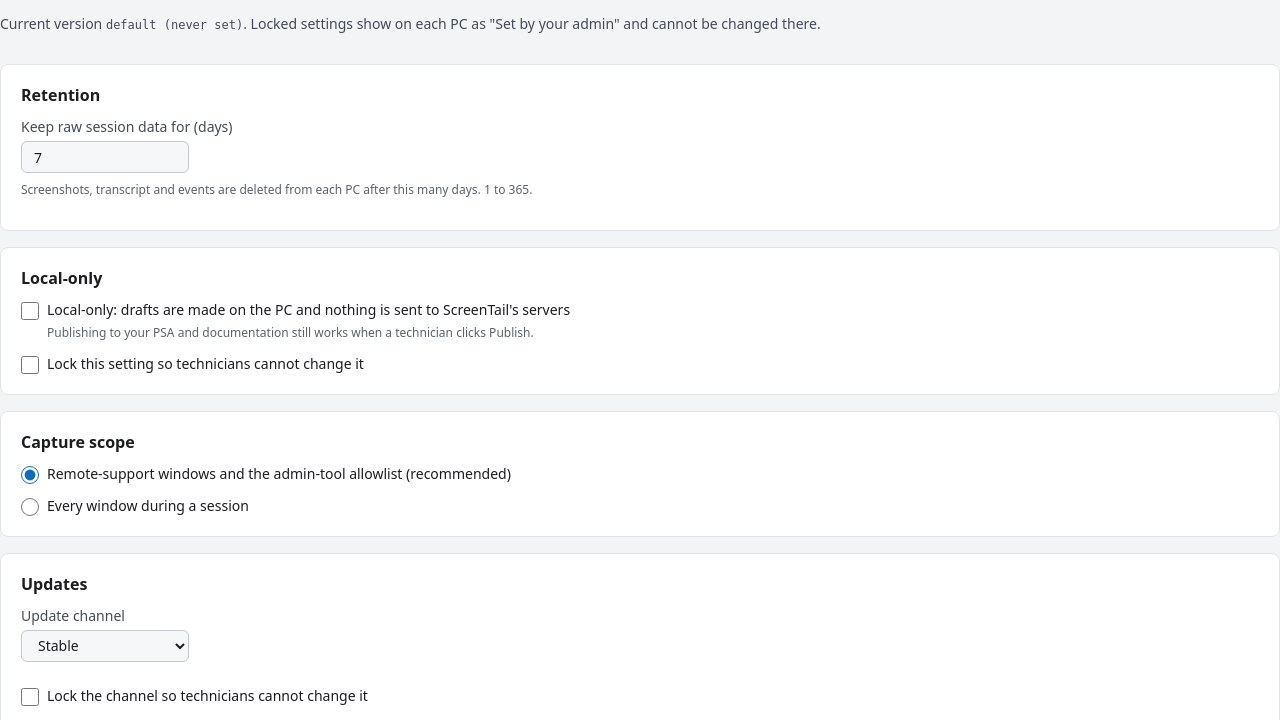
it: PolicyPage › saves every field of the policy, the locked ones included
The width and height of the screenshot is (1280, 720).
Replace the text in the number field labelled "Keep raw session data for (days)" with "3" at (105, 157), box [21, 141, 189, 173]
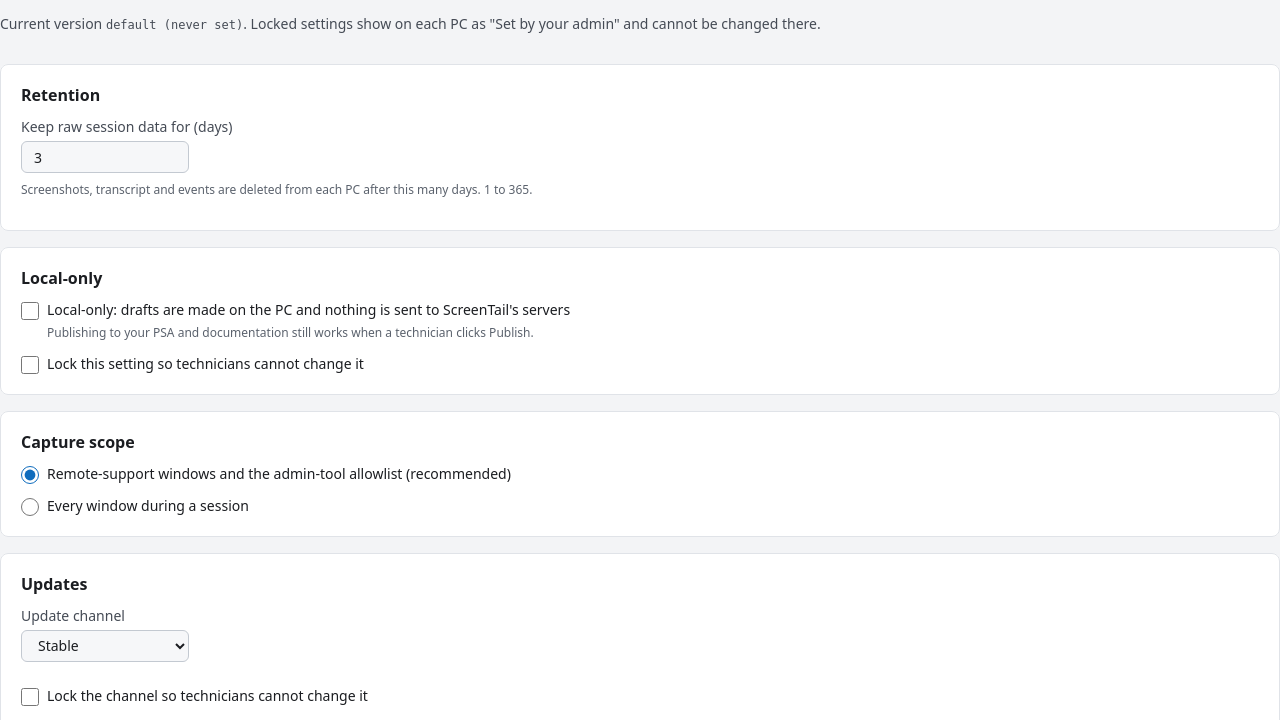
Click the checkbox labelled "Local-only:" at (30, 311), box [21, 302, 39, 320]
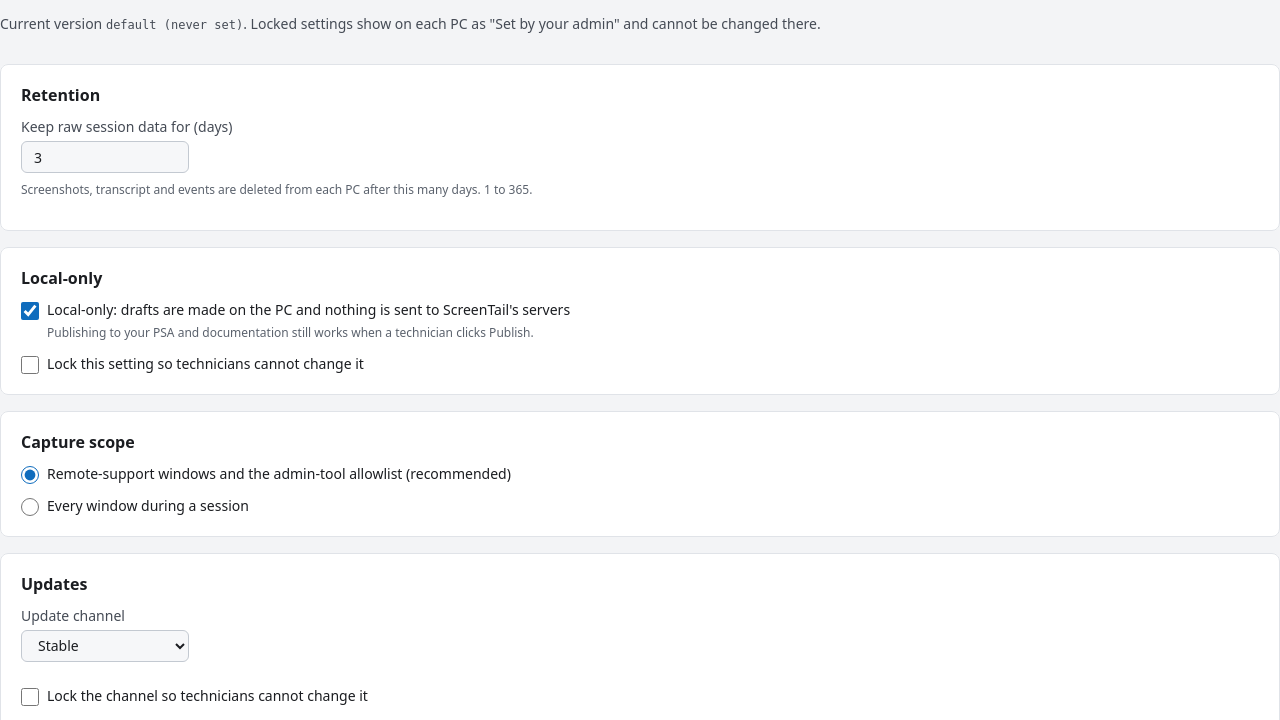
Click the checkbox labelled "Lock this setting so technicians cannot change it" at (30, 364), box [21, 356, 39, 374]
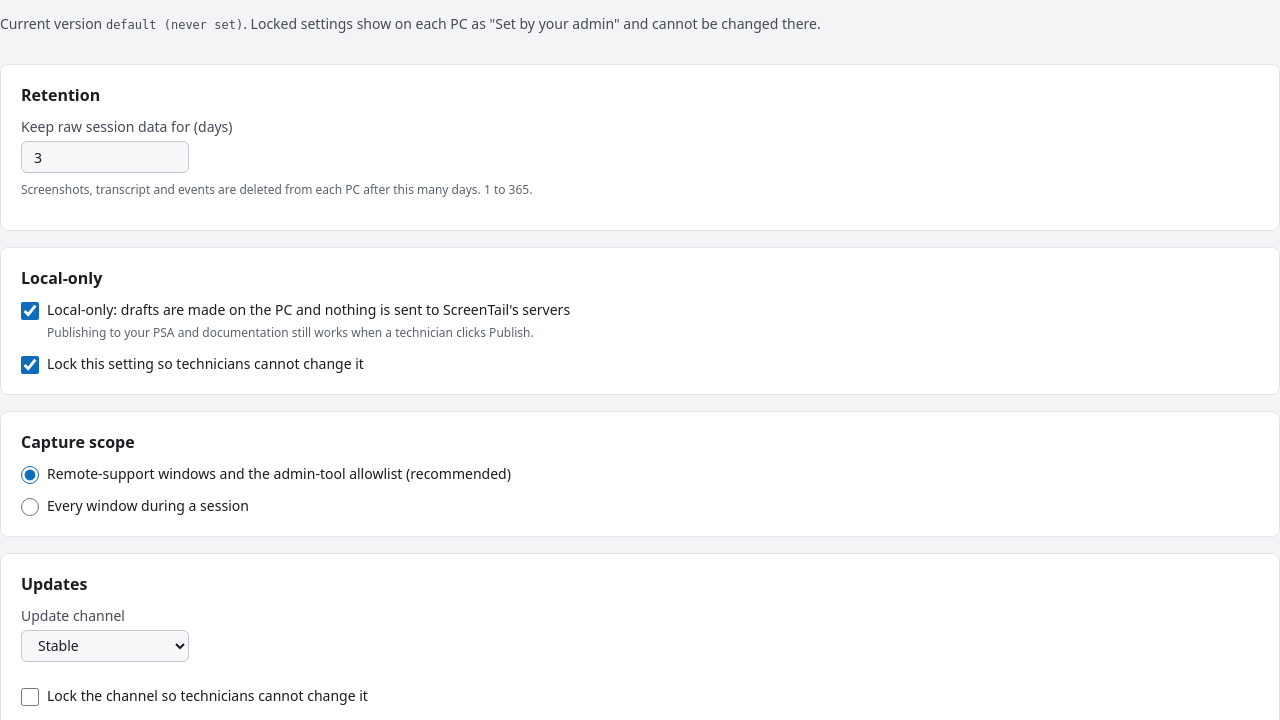
Select "Pilot (early builds)" in the dropdown labelled "Update channel" at (105, 646), box [21, 630, 189, 662]
(page scrolled)
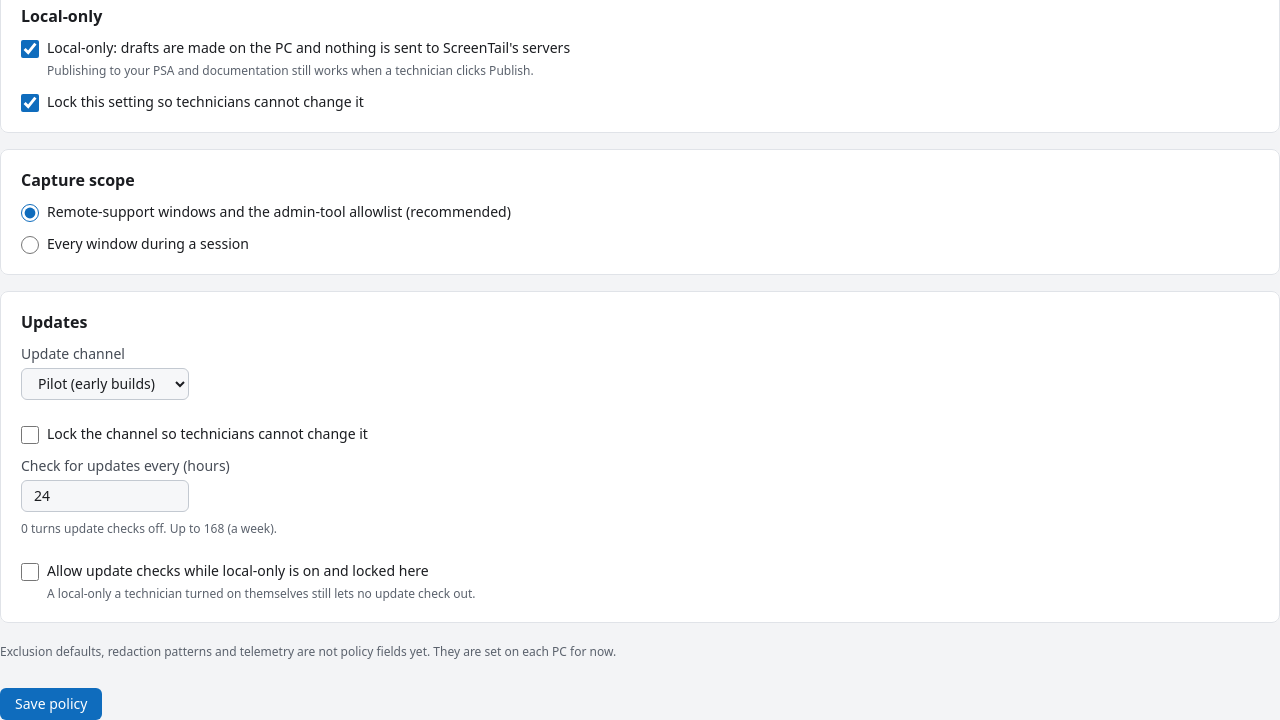
Click the button "Save policy" at (51, 704), box [0, 688, 102, 719]
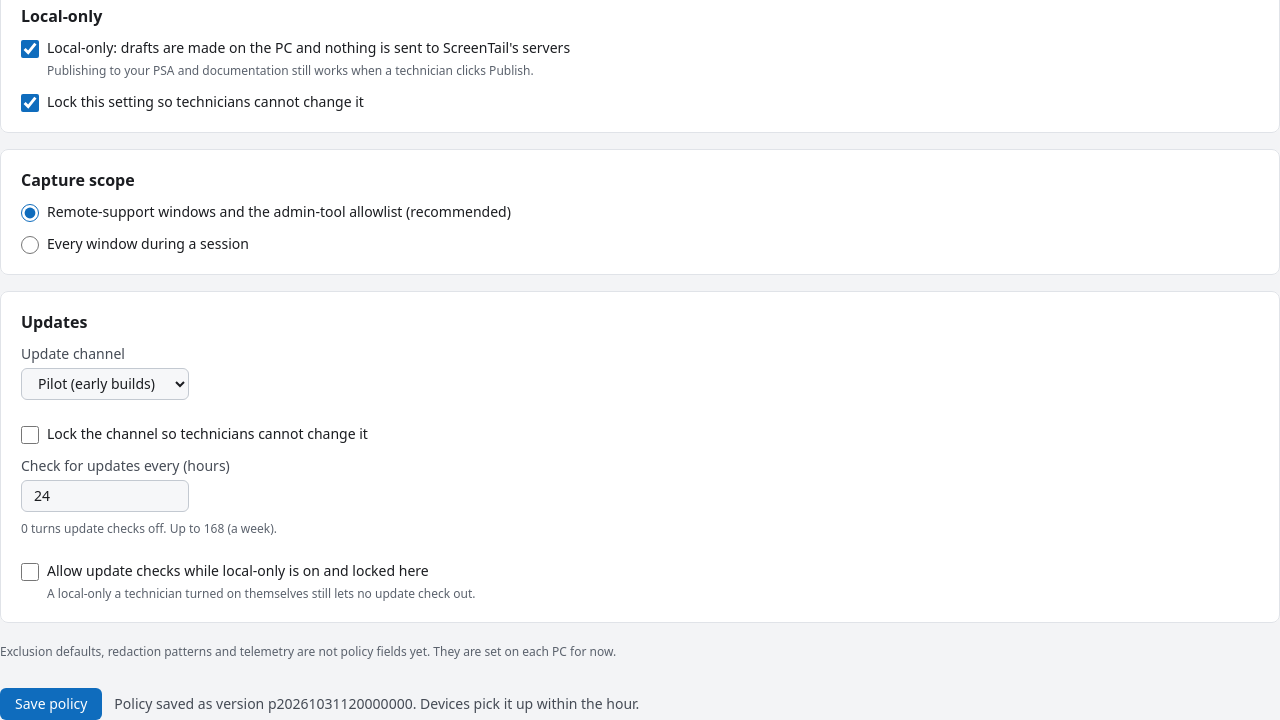
Check: the text "Policy saved as version p20261031120000000" is shown, box [114, 694, 639, 713]
